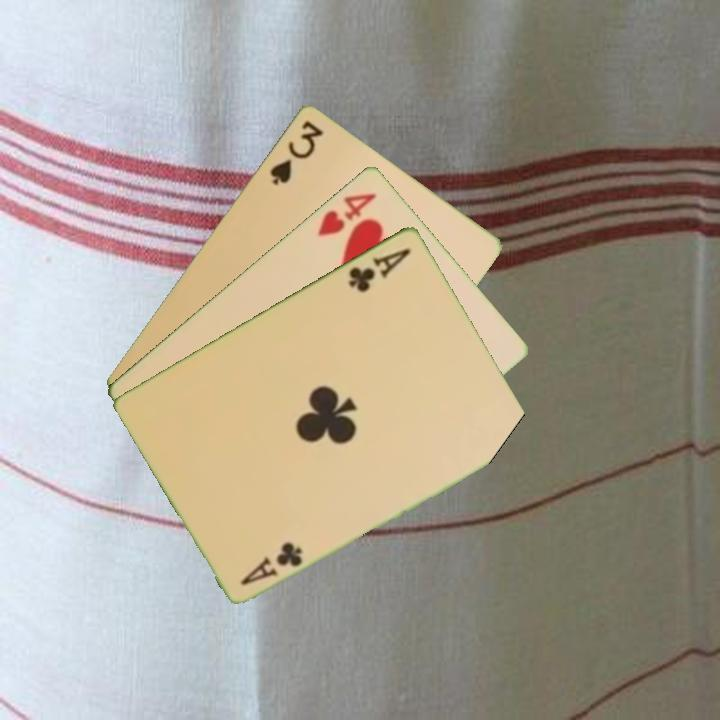3s: (266, 116, 327, 188)
4h: (314, 188, 380, 239)
Ac: (345, 244, 414, 295), (236, 538, 306, 588)
